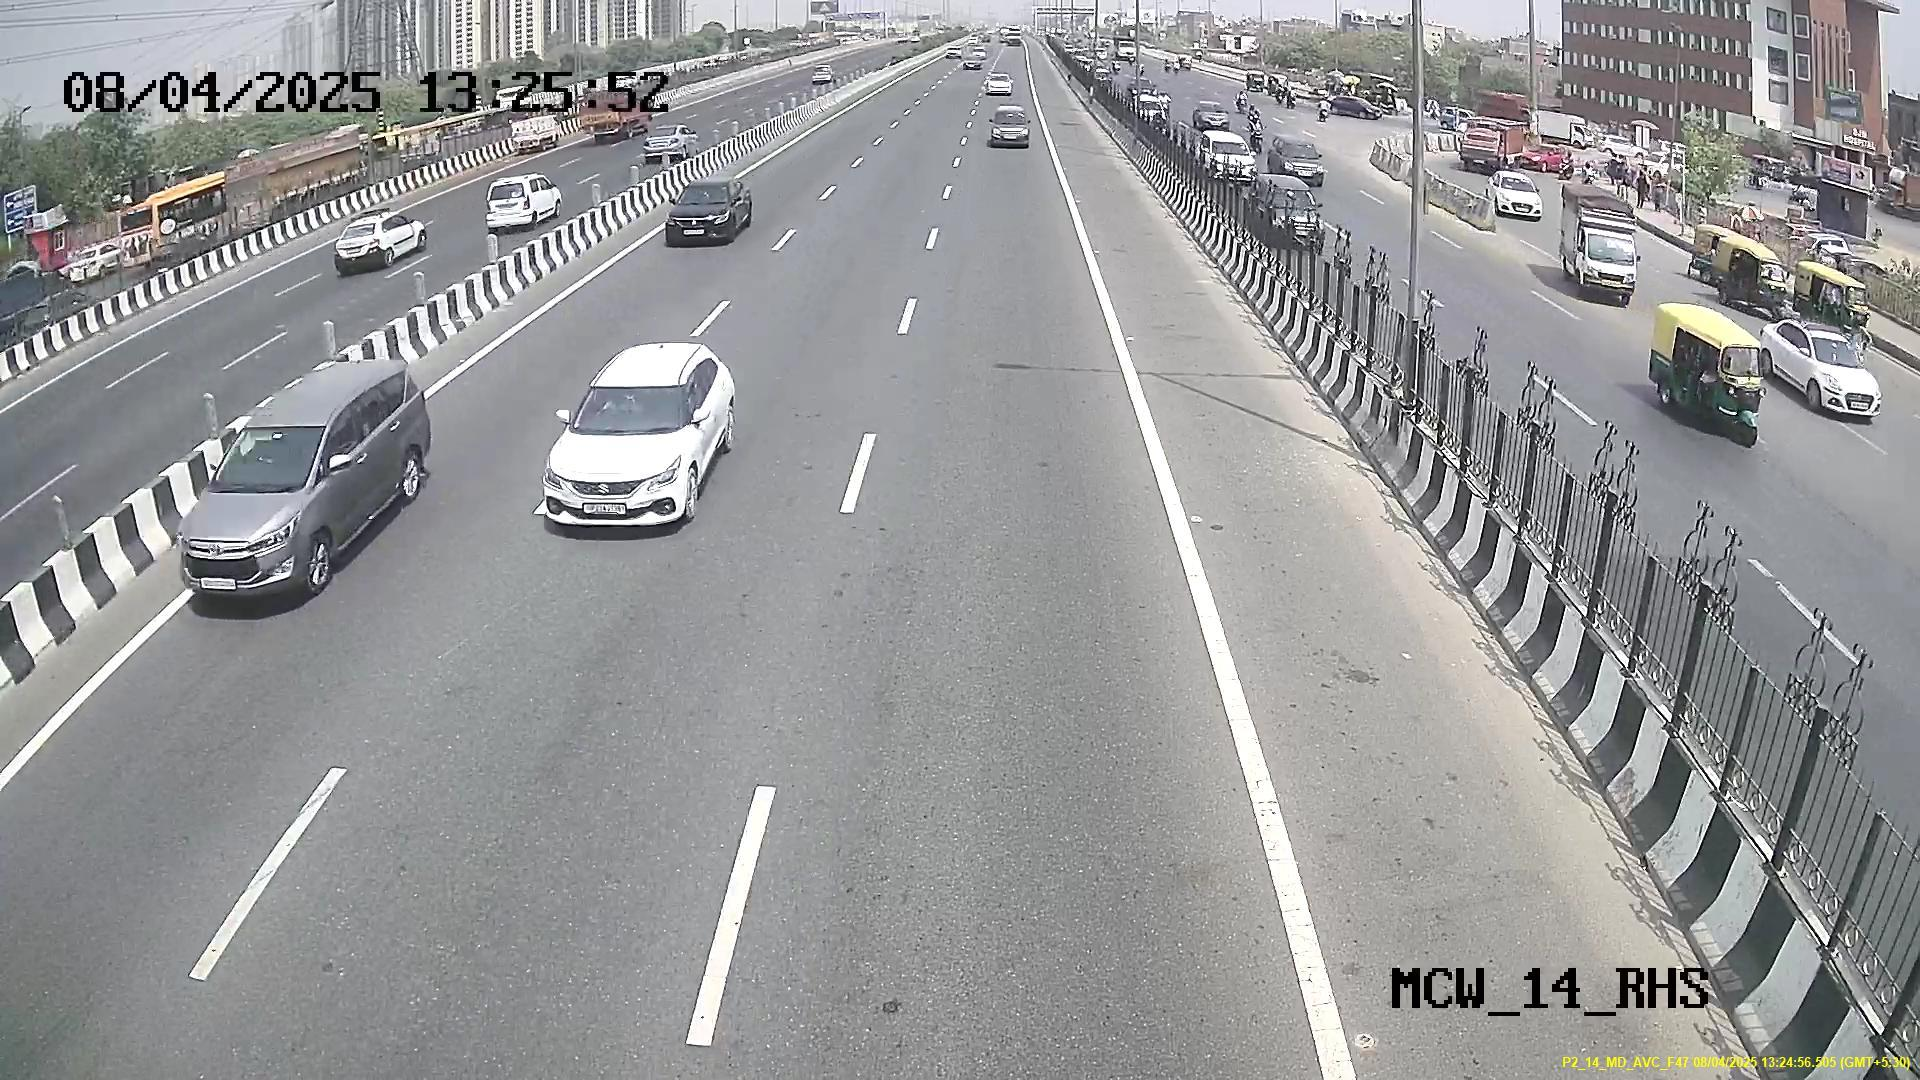car: (170, 397, 377, 609), (538, 360, 715, 538), (659, 173, 748, 251)
